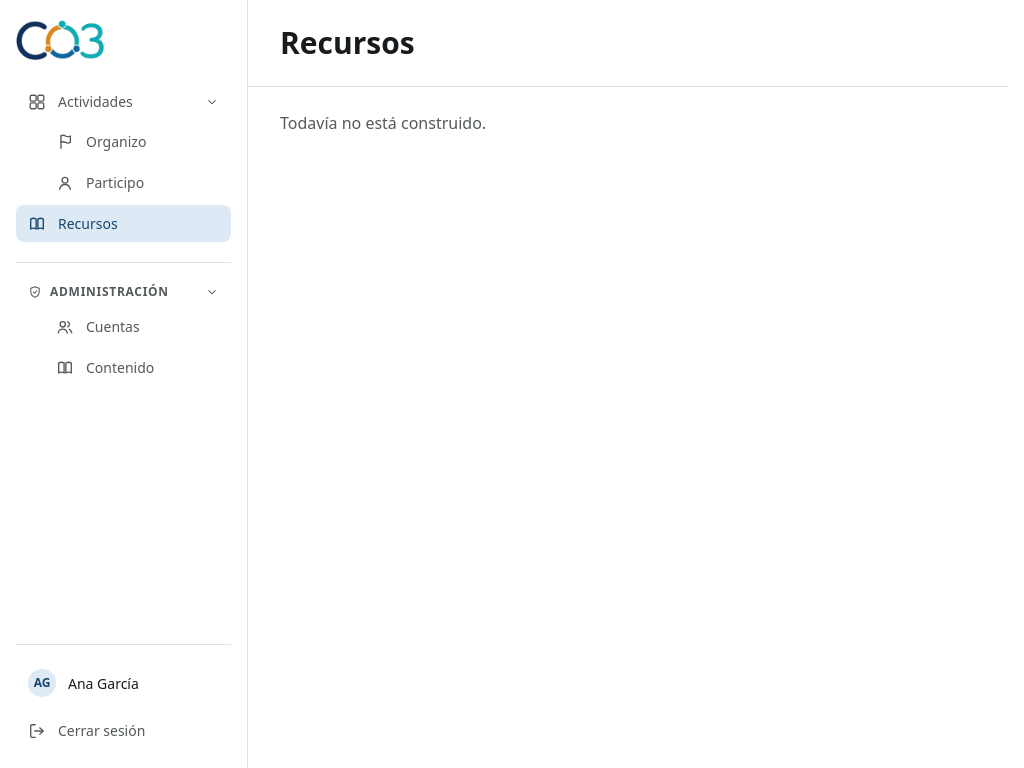
PantallaProximamente › el grupo Administración se pliega y se despliega
The width and height of the screenshot is (1024, 768).
Click the button "Administración": (124, 292) [16, 279, 231, 304]
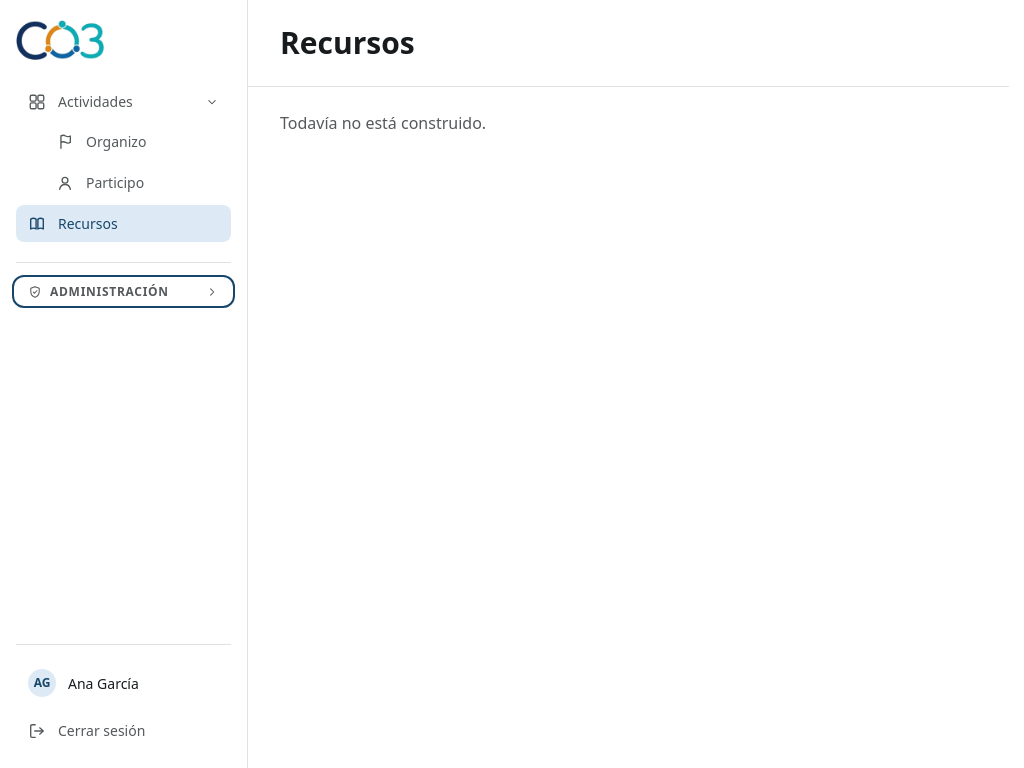
Expected: the button "Administración" is collapsed
Click the button "Administración": (124, 292) [16, 279, 231, 304]
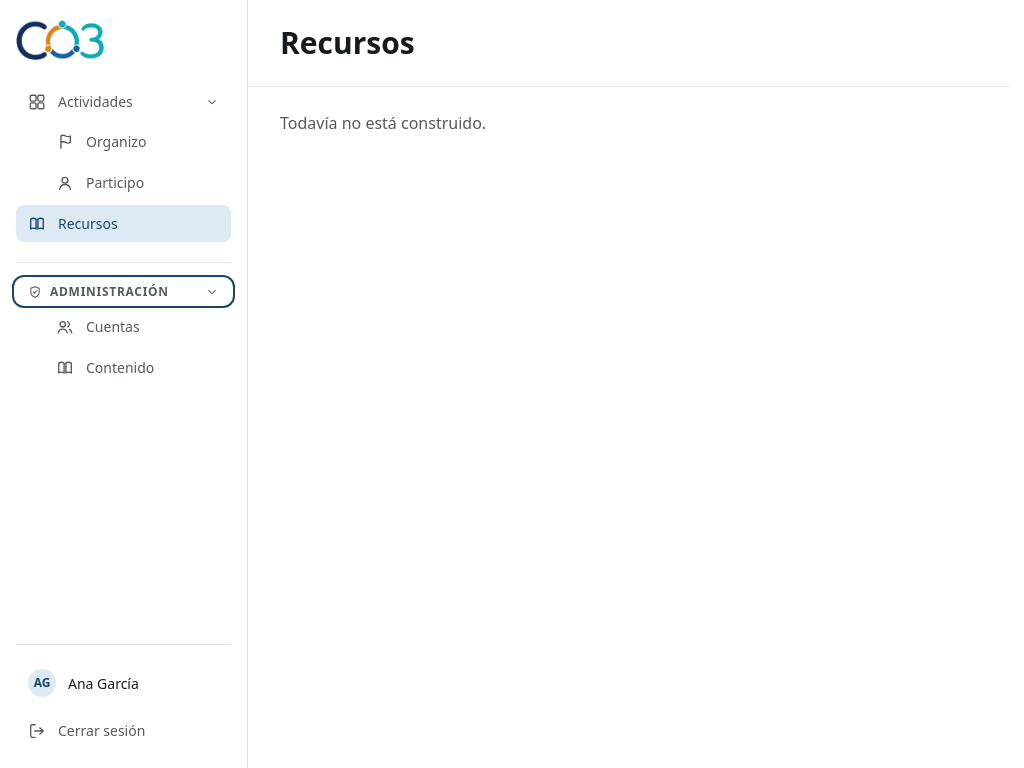
Expected: the button "Administración" is expanded, [16, 279, 231, 304]
